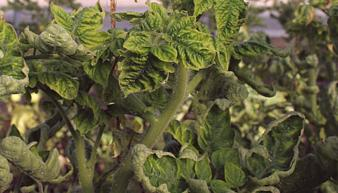Tomato leaf yellow virus: (47, 0, 113, 71), (243, 109, 307, 180), (139, 15, 215, 69), (120, 143, 199, 193), (26, 63, 85, 99)
